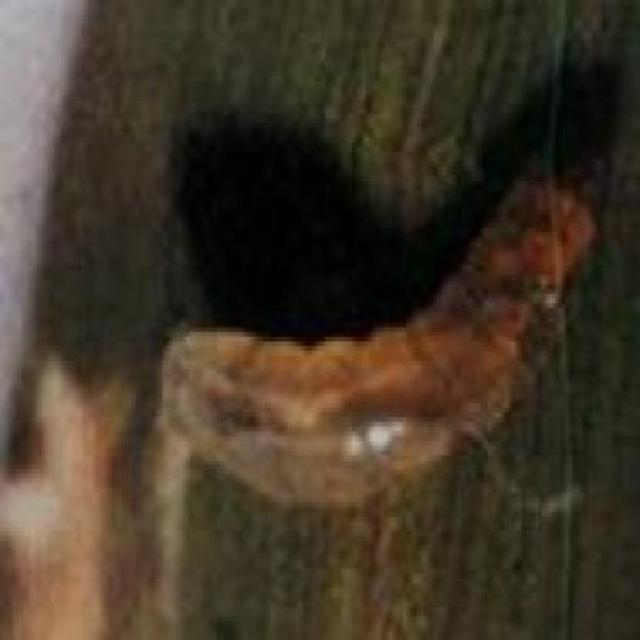whorl-maggot: (163, 186, 600, 512)
